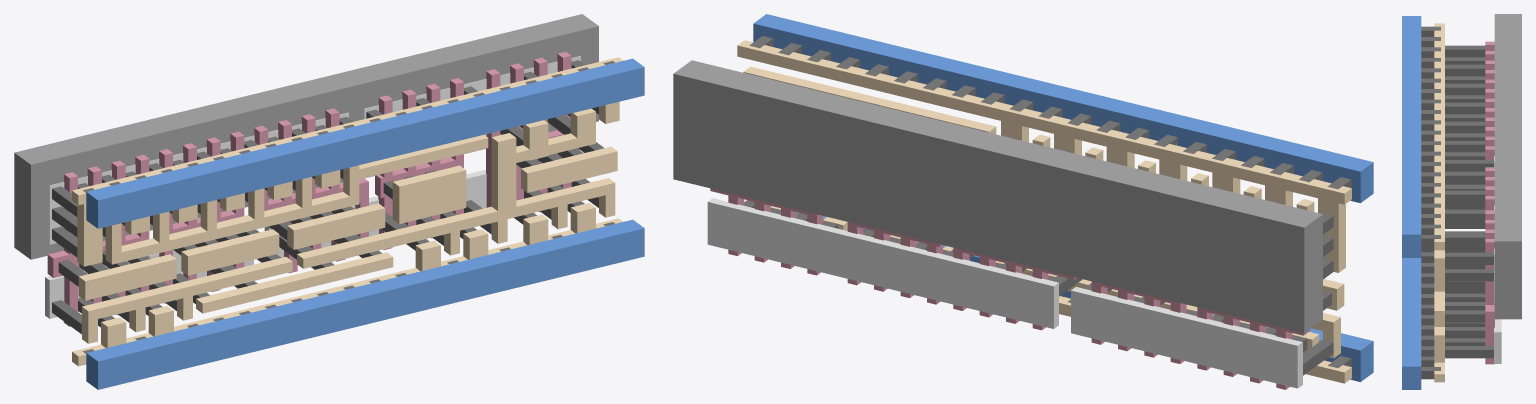
File: sky130_fd_sc_hd__a311oi_4.gds.gltf
The picture shows the model from 3 angles, left to right: view 1: azimuth 30°, elevation 25°; view 2: azimuth 150°, elevation 25°; view 3: azimuth 270°, elevation 25°; orthographic projection. The views are drawn at different scales.
Parts seen in each view (by area): view 1: sky130_fd_sc_hd__a311oi_4_li1, sky130_fd_sc_hd__a311oi_4_met1, sky130_fd_sc_hd__a311oi_4_nwell, sky130_fd_sc_hd__a311oi_4_poly, sky130_fd_sc_hd__a311oi_4_licon, sky130_fd_sc_hd__a311oi_4_diff, sky130_fd_sc_hd__a311oi_4_mcon; view 2: sky130_fd_sc_hd__a311oi_4_nwell, sky130_fd_sc_hd__a311oi_4_diff, sky130_fd_sc_hd__a311oi_4_li1, sky130_fd_sc_hd__a311oi_4_met1, sky130_fd_sc_hd__a311oi_4_poly, sky130_fd_sc_hd__a311oi_4_mcon, sky130_fd_sc_hd__a311oi_4_licon; view 3: sky130_fd_sc_hd__a311oi_4_licon, sky130_fd_sc_hd__a311oi_4_nwell, sky130_fd_sc_hd__a311oi_4_met1, sky130_fd_sc_hd__a311oi_4_mcon, sky130_fd_sc_hd__a311oi_4_li1, sky130_fd_sc_hd__a311oi_4_poly, sky130_fd_sc_hd__a311oi_4_diff.
Part boxes in pixels (bbox=[...]): sky130_fd_sc_hd__a311oi_4_li1: bbox=[72, 57, 622, 366]; sky130_fd_sc_hd__a311oi_4_met1: bbox=[86, 58, 644, 389]; sky130_fd_sc_hd__a311oi_4_nwell: bbox=[14, 14, 598, 259]; sky130_fd_sc_hd__a311oi_4_poly: bbox=[47, 52, 579, 326]; sky130_fd_sc_hd__a311oi_4_licon: bbox=[52, 60, 604, 334]; sky130_fd_sc_hd__a311oi_4_diff: bbox=[45, 56, 580, 318]; sky130_fd_sc_hd__a311oi_4_mcon: bbox=[83, 61, 614, 353]; sky130_fd_sc_hd__a311oi_4_nwell: bbox=[673, 60, 1322, 333]; sky130_fd_sc_hd__a311oi_4_diff: bbox=[707, 198, 1302, 388]; sky130_fd_sc_hd__a311oi_4_li1: bbox=[737, 40, 1351, 383]; sky130_fd_sc_hd__a311oi_4_met1: bbox=[753, 14, 1373, 381]; sky130_fd_sc_hd__a311oi_4_poly: bbox=[710, 188, 1310, 389]; sky130_fd_sc_hd__a311oi_4_mcon: bbox=[749, 36, 1351, 367]; sky130_fd_sc_hd__a311oi_4_licon: bbox=[744, 73, 1333, 375]; sky130_fd_sc_hd__a311oi_4_licon: bbox=[1445, 45, 1493, 358]; sky130_fd_sc_hd__a311oi_4_nwell: bbox=[1494, 14, 1521, 319]; sky130_fd_sc_hd__a311oi_4_met1: bbox=[1402, 16, 1421, 389]; sky130_fd_sc_hd__a311oi_4_mcon: bbox=[1421, 26, 1440, 379]; sky130_fd_sc_hd__a311oi_4_li1: bbox=[1434, 23, 1444, 382]; sky130_fd_sc_hd__a311oi_4_poly: bbox=[1485, 41, 1494, 364]; sky130_fd_sc_hd__a311oi_4_diff: bbox=[1494, 156, 1501, 363].
Size of the model in its own units: 10.04 by 3.2 by 2.24.
